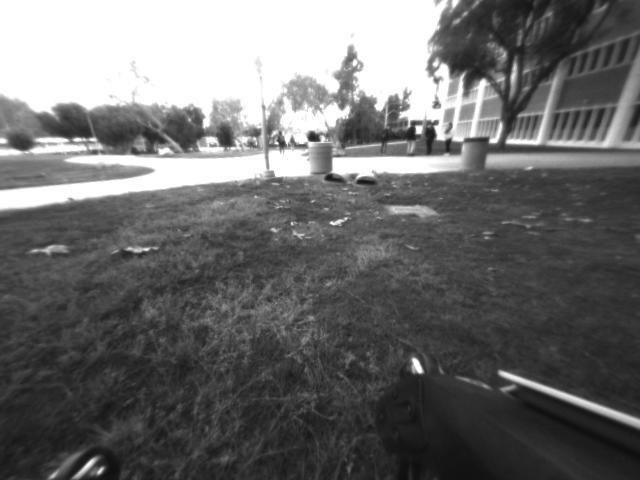trashcan: (306, 140, 336, 177), (460, 135, 486, 176)
